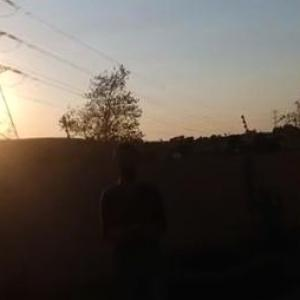follow: (92, 140, 175, 299)
